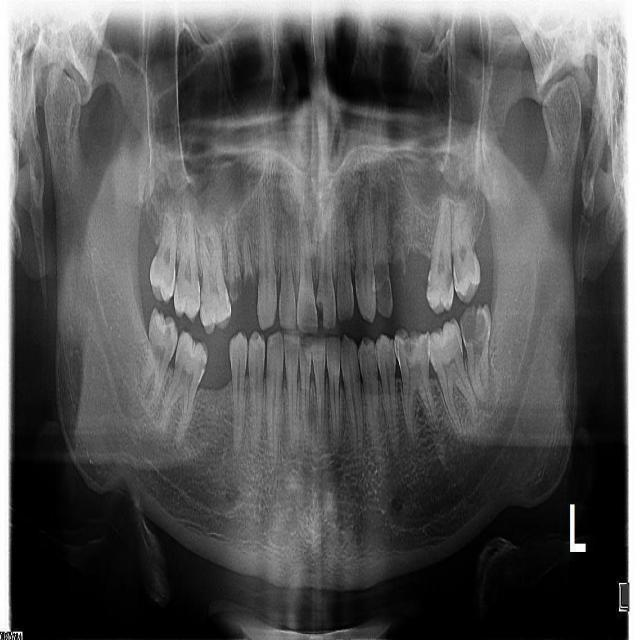Caries: (371, 259, 391, 309), (461, 304, 485, 342), (404, 336, 419, 357), (317, 299, 325, 326), (446, 264, 452, 295), (427, 271, 433, 296), (455, 265, 462, 283)
Missing teeth: (196, 341, 232, 391), (406, 251, 431, 311)
Periapical lesion: (120, 394, 145, 415), (476, 402, 491, 413)
Root Piece: (224, 217, 241, 303), (241, 233, 255, 289), (392, 225, 405, 270)
